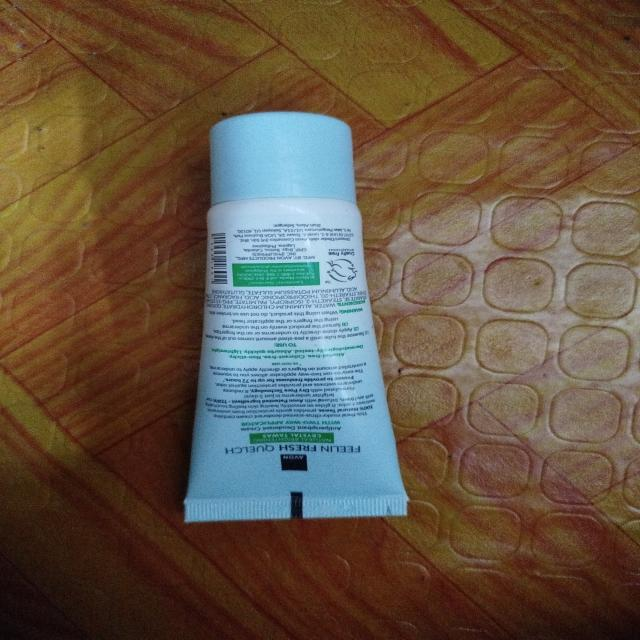plastic: (164, 99, 433, 546)
